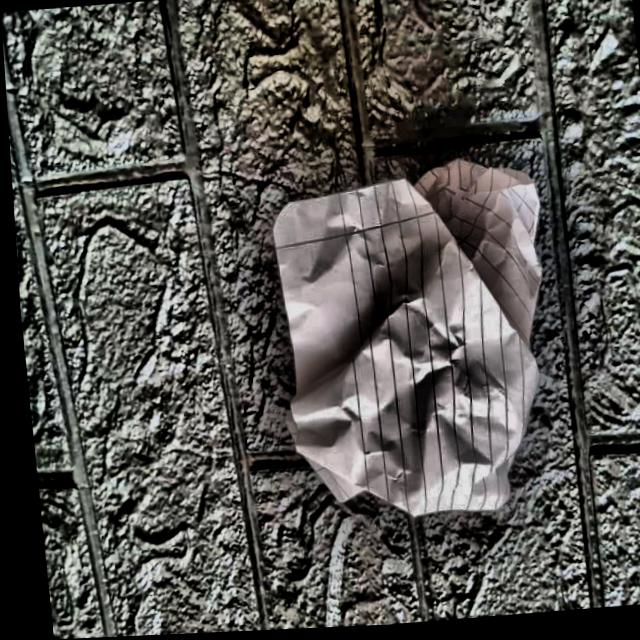paper: (254, 145, 565, 536)
